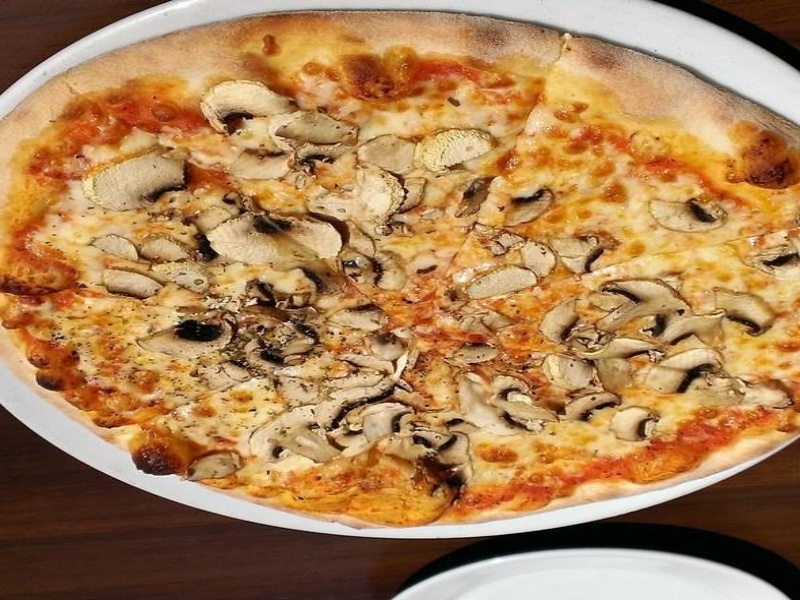champignon: (243, 403, 348, 470), (595, 271, 692, 343)
